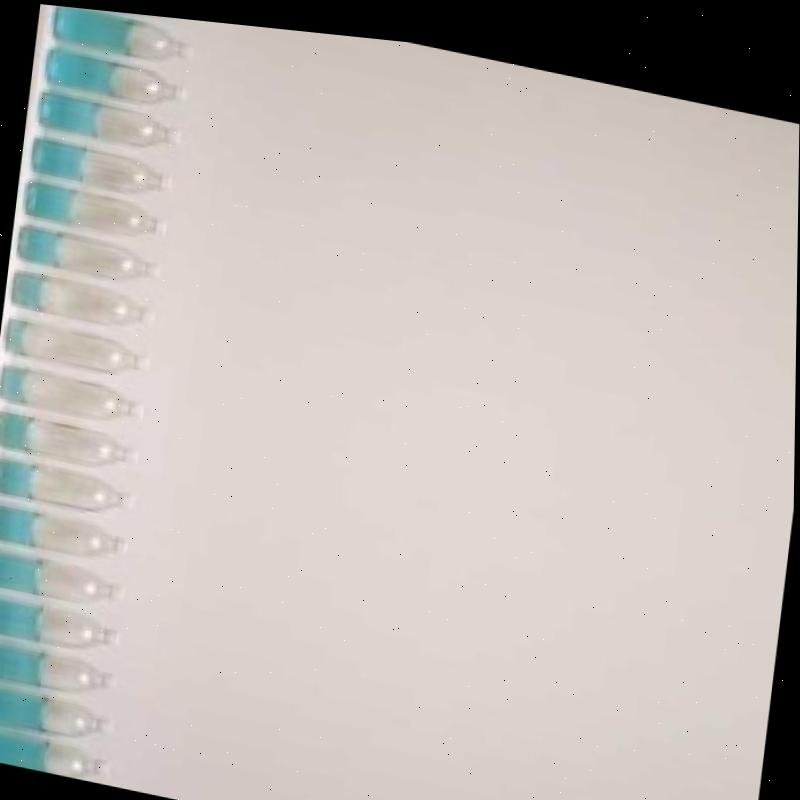botella: (10, 264, 158, 332), (0, 358, 145, 426), (14, 220, 161, 285), (3, 315, 150, 380), (0, 405, 139, 473), (36, 87, 181, 152), (39, 44, 191, 106), (0, 450, 135, 517), (23, 177, 167, 239), (29, 136, 174, 197), (0, 498, 129, 565), (51, 4, 193, 64), (0, 543, 126, 610), (0, 592, 119, 654), (0, 638, 116, 700), (0, 682, 114, 745), (0, 723, 114, 783)
